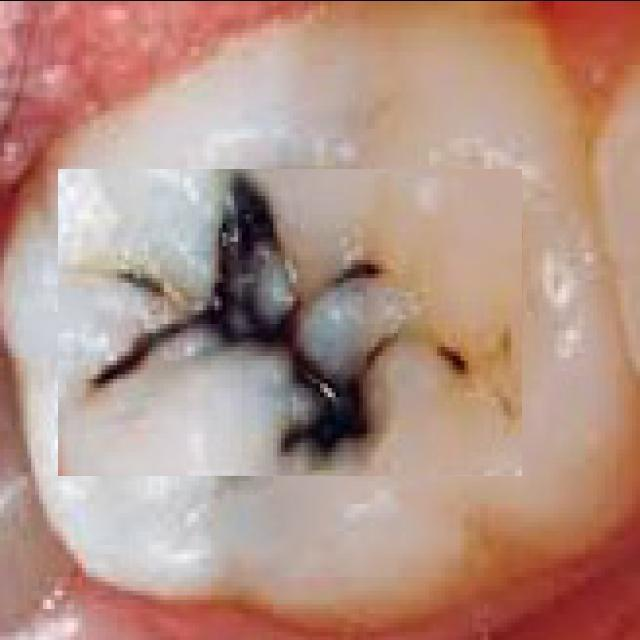caries: (90, 179, 428, 473)
